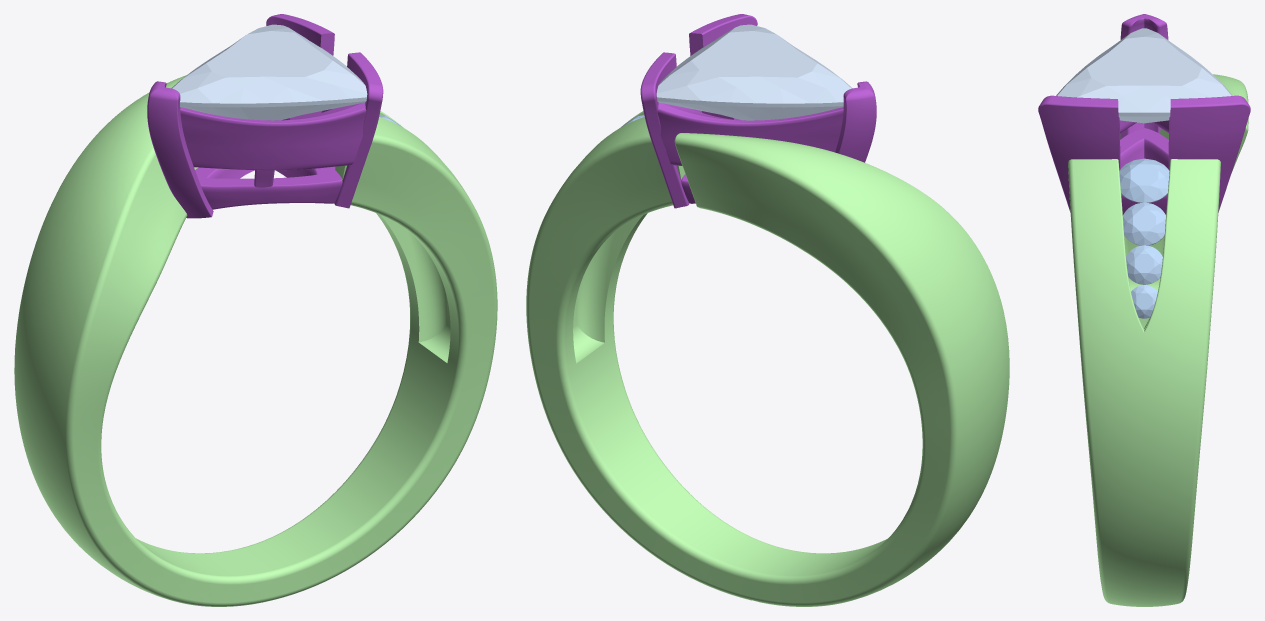
The picture shows the model from 3 angles, left to right: view 1: azimuth 30°, elevation 25°; view 2: azimuth 150°, elevation 25°; view 3: azimuth 270°, elevation 25°; orthographic projection.
Visible parts, largest first — view 1: ZB-321 Trillion.3dm, Head Rail, Head Prong; view 2: ZB-321 Trillion.3dm, Head Prong; view 3: ZB-321 Trillion.3dm, GemOnCrv (×4), Head Rail, Head Prong.
Boxes of the visible parts, bbox=[...] form: ZB-321 Trillion.3dm: bbox=[14, 14, 497, 606]; Head Rail: bbox=[195, 166, 342, 209]; Head Prong: bbox=[147, 81, 213, 218]; ZB-321 Trillion.3dm: bbox=[526, 14, 1009, 606]; Head Prong: bbox=[835, 81, 876, 162]; ZB-321 Trillion.3dm: bbox=[1038, 28, 1250, 606]; GemOnCrv (×4): bbox=[1119, 158, 1169, 318]; Head Rail: bbox=[1120, 128, 1168, 214]; Head Prong: bbox=[1120, 14, 1168, 139].
Size of the model in its own units: 2.54 by 2.9 by 1.07.
